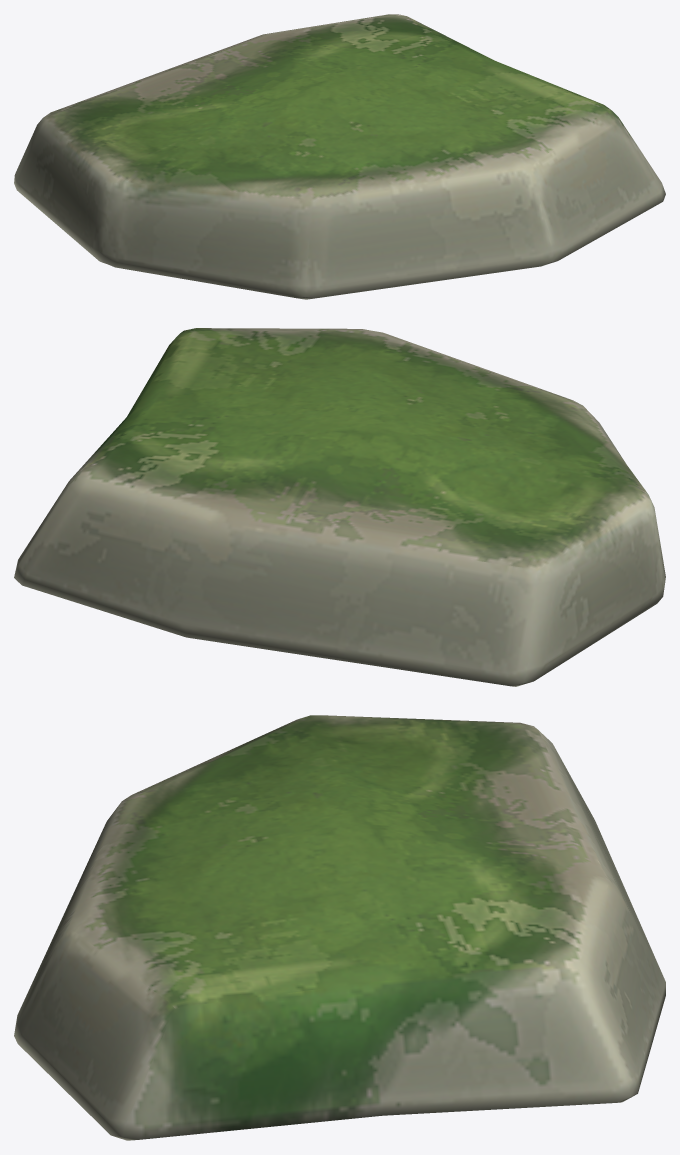
File: NormalRock4.fbx
The picture shows the model from 3 angles, top to bottom: view 1: azimuth 30°, elevation 25°; view 2: azimuth 150°, elevation 25°; view 3: azimuth 270°, elevation 25°; orthographic projection. The views are drawn at different scales.
Parts seen in each view (by area): view 1: NormalRock4; view 2: NormalRock4; view 3: NormalRock4.
Boxes of the visible parts, x1,y1,x2,y2 form: NormalRock4: (14,14,665,299); NormalRock4: (14,328,665,686); NormalRock4: (14,715,665,1140).
Size of the model in its own units: 0.8356 by 0.177 by 0.7125.
